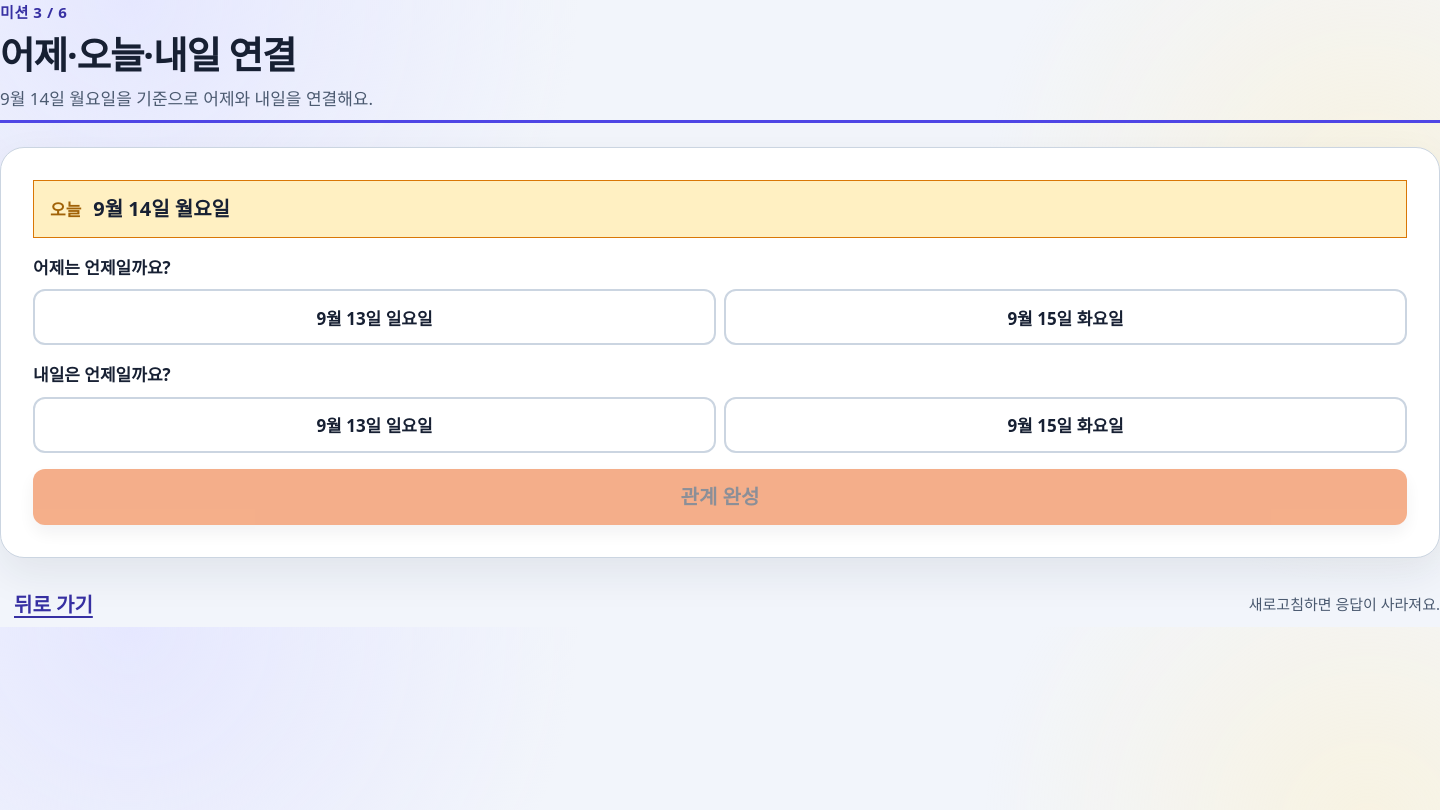
Scenario: 관계 카드 단계 (calendar-yesterday-03) › 어제와 내일 카드를 연결해 완성한다
Click the button with aria-label "어제: 9월 13일 일요일": (374, 318) [33,290,716,346]
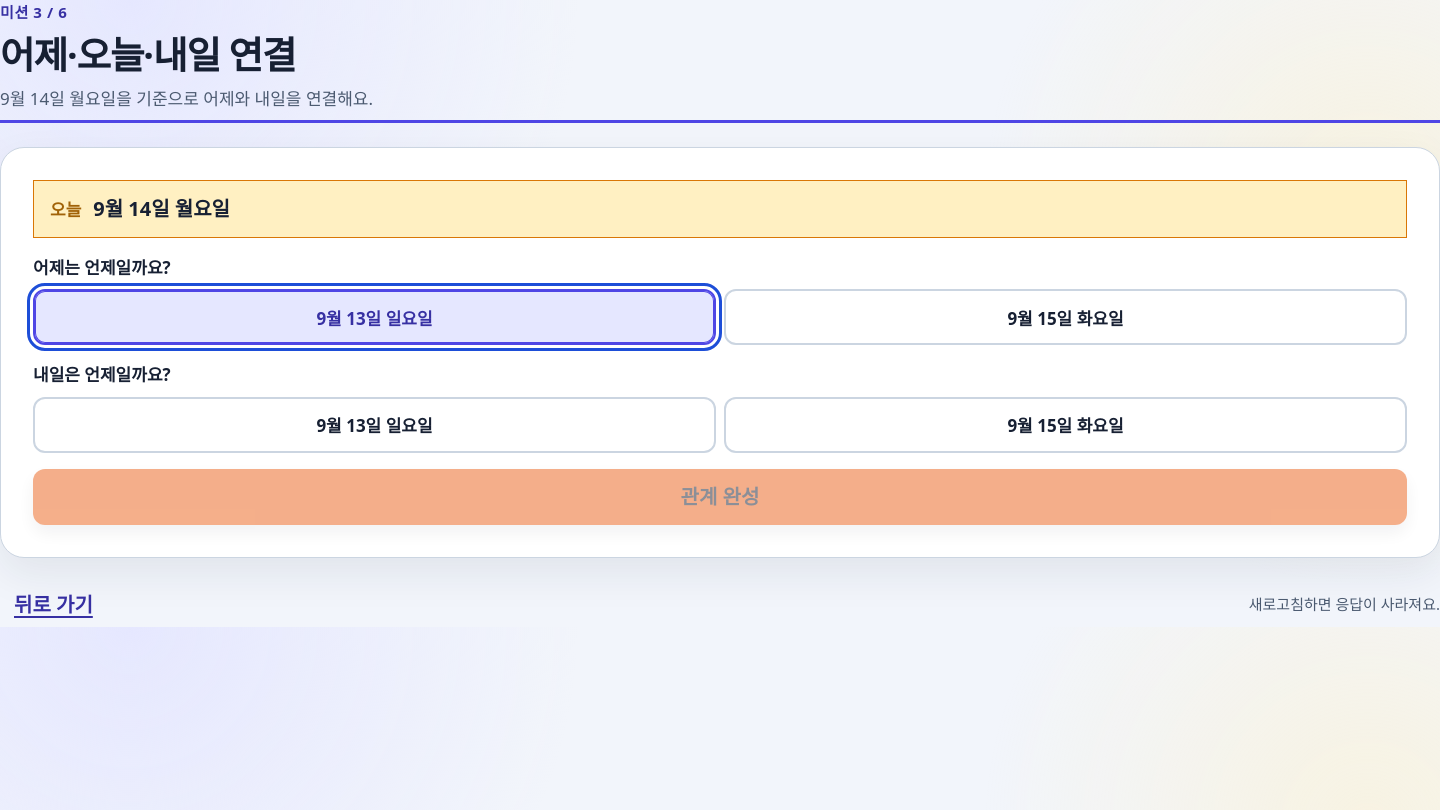
Click the button with aria-label "내일: 9월 15일 화요일": (1066, 425) [724,397,1407,453]
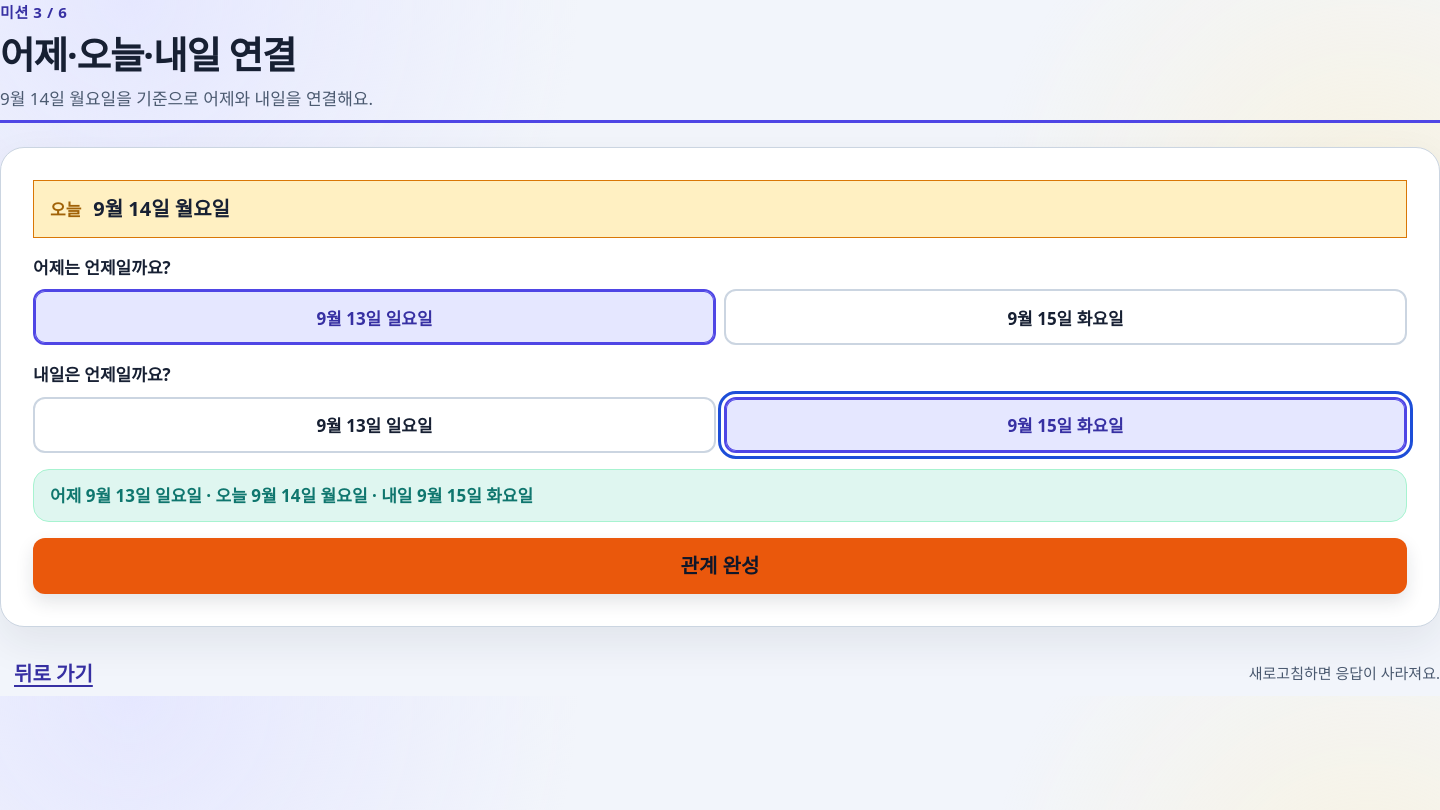
Click the button "관계 완성": (720, 566) [33,538,1407,594]
(page scrolled)
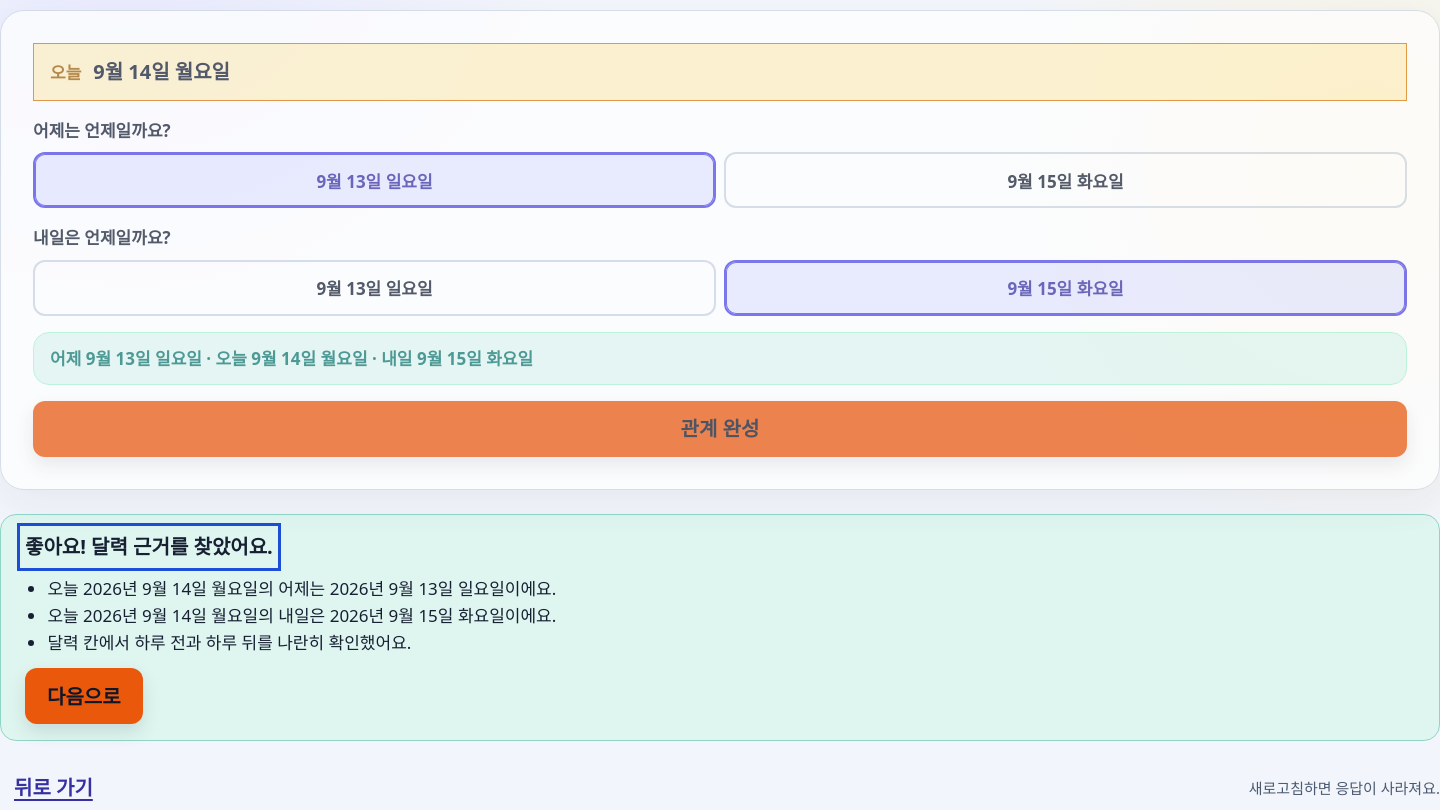
Expected: the heading "좋아요! 달력 근거를 찾았어요." is shown, [25,531,273,563]
